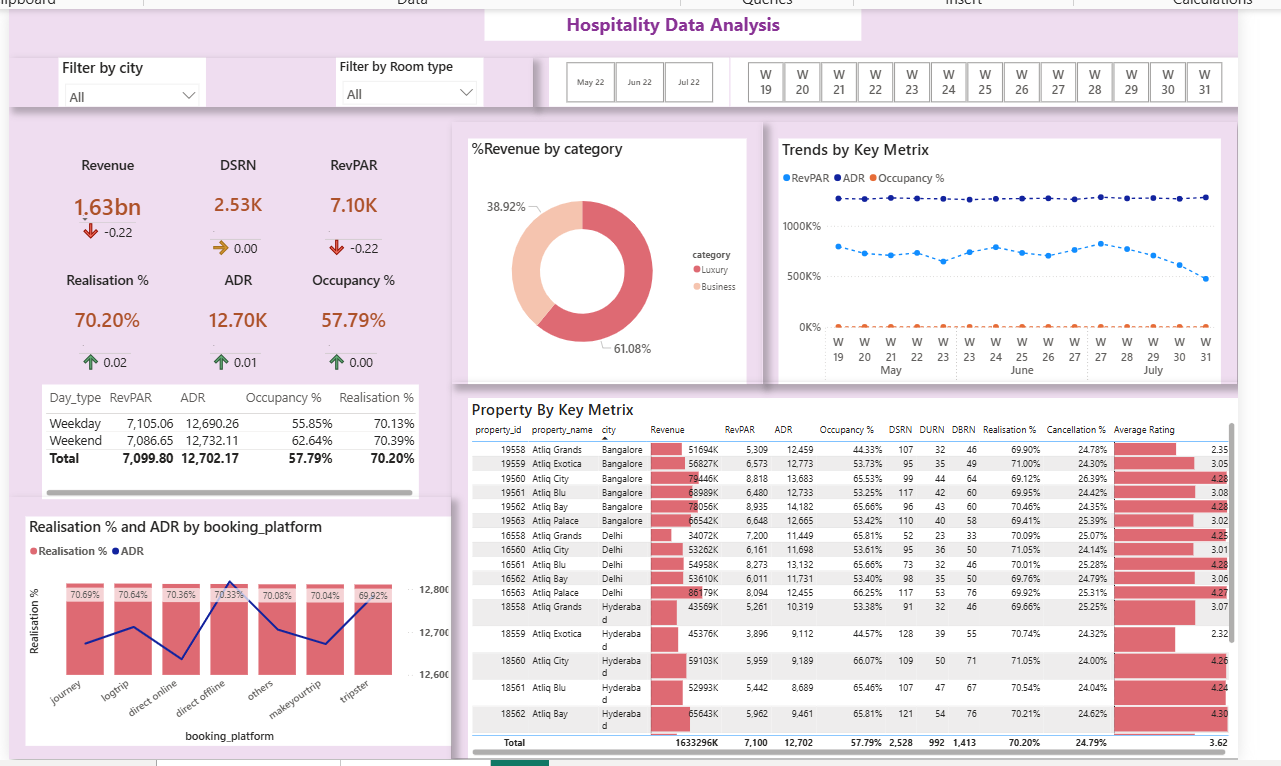

Layout of this report page (visuals, bound fields, positions):
{"tool":"powerbi","page":{"name":"Dashboard","canvas":[1800,1100],"ordinal":1},"visuals":[{"type":"shape","box":[0,168,648,552],"z":0},{"type":"shape","box":[768,72,1032,72],"z":1000},{"type":"tableEx","title":"Property By Key Metrix","fields":{"Values":["dim_hotels.property_id","dim_hotels.property_name","dim_hotels.city","key_measure.Revenue","key_measure.RevPAR","key_measure.ADR","key_measure.Occupancy %","key_measure.DSRN","key_measure.DURN","key_measure.DBRN","key_measure.Realisation %","key_measure.Cancellation %"]},"box":[672,572,1128,528],"z":3000},{"type":"slicer","title":"Filter by city","fields":{"Values":["dim_hotels.city"]},"box":[72,72,216,72],"z":4000},{"type":"slicer","title":"Filter by Room type","fields":{"Values":["dim_rooms.room_class"]},"box":[480,72,216,72],"z":5000},{"type":"tableEx","fields":{"Values":["key_measure.Revenue WoW change %"]},"box":[96,288,96,96],"z":6000},{"type":"slicer","title":"Filter by Date","fields":{"Values":["dim_date.mmm yy"]},"box":[792,72,264,72],"z":7000},{"type":"donutChart","title":"%Revenue by category","fields":{"Category":["dim_hotels.category"],"Y":["key_measure.Revenue"]},"box":[672,192,408,360],"z":8000},{"type":"slicer","title":"Filter by Week no","fields":{"Values":["dim_date.week no"]},"box":[1056,72,744,72],"z":9000},{"type":"cardVisual","title":"DSRN","fields":{"Data":["key_measure.DSRN"]},"box":[264,216,144,96],"z":10000},{"type":"cardVisual","title":"RevPAR","fields":{"Data":["key_measure.RevPAR"]},"box":[432,216,144,96],"z":11000},{"type":"cardVisual","title":"ADR","fields":{"Data":["key_measure.ADR"]},"box":[264,384,144,96],"z":12000},{"type":"cardVisual","title":"Occupancy %","fields":{"Data":["key_measure.Occupancy %"]},"box":[432,384,144,96],"z":13000},{"type":"cardVisual","title":"Realisation %","fields":{"Data":["key_measure.Realisation %"]},"box":[48,384,192,96],"z":14000},{"type":"lineChart","title":"Trends by Key Metrix","fields":{"Category":["dim_date.mmm yy.Variation.Date Hierarchy.Month","dim_date.week no"],"Y":["key_measure.RevPAR","key_measure.ADR","key_measure.Occupancy %"]},"box":[1128,192,648,360],"z":15000},{"type":"lineStackedColumnComboChart","fields":{"Category":["fact_bookings.booking_platform"],"Y":["key_measure.Realisation %"],"Y2":["key_measure.ADR"]},"box":[24,744,624,336],"z":16000},{"type":"tableEx","fields":{"Values":["dim_date.Day_type","key_measure.RevPAR","key_measure.ADR","key_measure.Occupancy %","key_measure.Realisation %"]},"box":[48,552,552,168],"z":17000},{"type":"cardVisual","title":"Revenue","fields":{"Data":["key_measure.Revenue"]},"box":[72,216,144,96],"z":18000},{"type":"tableEx","fields":{"Values":["key_measure.DSRN WoW change %"]},"box":[288,312,96,72],"z":19000},{"type":"tableEx","fields":{"Values":["key_measure.Revpar WoW change %"]},"box":[456,312,96,72],"z":20000},{"type":"tableEx","fields":{"Values":["key_measure.Occupancy WoW change %"]},"box":[456,480,96,72],"z":21000},{"type":"tableEx","fields":{"Values":["key_measure.ADR WoW change %"]},"box":[288,480,96,72],"z":22000},{"type":"tableEx","fields":{"Values":["key_measure.Realisation WoW change %"]},"box":[96,480,96,72],"z":23000},{"type":"shape","box":[0,72,768,72],"z":24000},{"type":"shape","box":[648,548,1152,552],"z":25000},{"type":"shape","box":[648,168,456,384],"z":26000},{"type":"shape","box":[1104,168,696,384],"z":27000},{"type":"shape","box":[0,716,648,384],"z":28000},{"type":"textbox","box":[696,0,552,48],"z":29000}]}

Visuals, with their boxes on the page's 1800x1100 design canvas (x1, y1, x2, y2). These are canvas units, not pixel positions in the 1281x766 screenshot, which may show the page scaled, cropped or inside an application window:
shape: x1=0, y1=168, x2=648, y2=720
shape: x1=768, y1=72, x2=1800, y2=144
"Property By Key Metrix" tableEx: x1=672, y1=572, x2=1800, y2=1100
"Filter by city" slicer: x1=72, y1=72, x2=288, y2=144
"Filter by Room type" slicer: x1=480, y1=72, x2=696, y2=144
tableEx - key_measure.Revenue WoW change %: x1=96, y1=288, x2=192, y2=384
"Filter by Date" slicer: x1=792, y1=72, x2=1056, y2=144
"%Revenue by category" donutChart: x1=672, y1=192, x2=1080, y2=552
"Filter by Week no" slicer: x1=1056, y1=72, x2=1800, y2=144
"DSRN" cardVisual: x1=264, y1=216, x2=408, y2=312
"RevPAR" cardVisual: x1=432, y1=216, x2=576, y2=312
"ADR" cardVisual: x1=264, y1=384, x2=408, y2=480
"Occupancy %" cardVisual: x1=432, y1=384, x2=576, y2=480
"Realisation %" cardVisual: x1=48, y1=384, x2=240, y2=480
"Trends by Key Metrix" lineChart: x1=1128, y1=192, x2=1776, y2=552
lineStackedColumnComboChart - fact_bookings.booking_platform x key_measure.Realisation %: x1=24, y1=744, x2=648, y2=1080
tableEx - dim_date.Day_type x key_measure.RevPAR: x1=48, y1=552, x2=600, y2=720
"Revenue" cardVisual: x1=72, y1=216, x2=216, y2=312
tableEx - key_measure.DSRN WoW change %: x1=288, y1=312, x2=384, y2=384
tableEx - key_measure.Revpar WoW change %: x1=456, y1=312, x2=552, y2=384
tableEx - key_measure.Occupancy WoW change %: x1=456, y1=480, x2=552, y2=552
tableEx - key_measure.ADR WoW change %: x1=288, y1=480, x2=384, y2=552
tableEx - key_measure.Realisation WoW change %: x1=96, y1=480, x2=192, y2=552
shape: x1=0, y1=72, x2=768, y2=144
shape: x1=648, y1=548, x2=1800, y2=1100
shape: x1=648, y1=168, x2=1104, y2=552
shape: x1=1104, y1=168, x2=1800, y2=552
shape: x1=0, y1=716, x2=648, y2=1100
textbox: x1=696, y1=0, x2=1248, y2=48
